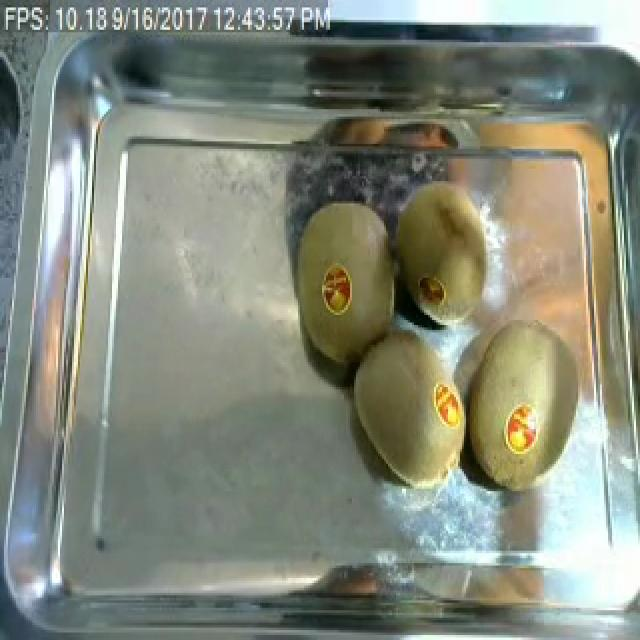Fruit: (342, 318, 474, 501), (280, 183, 400, 374), (394, 156, 514, 342)
